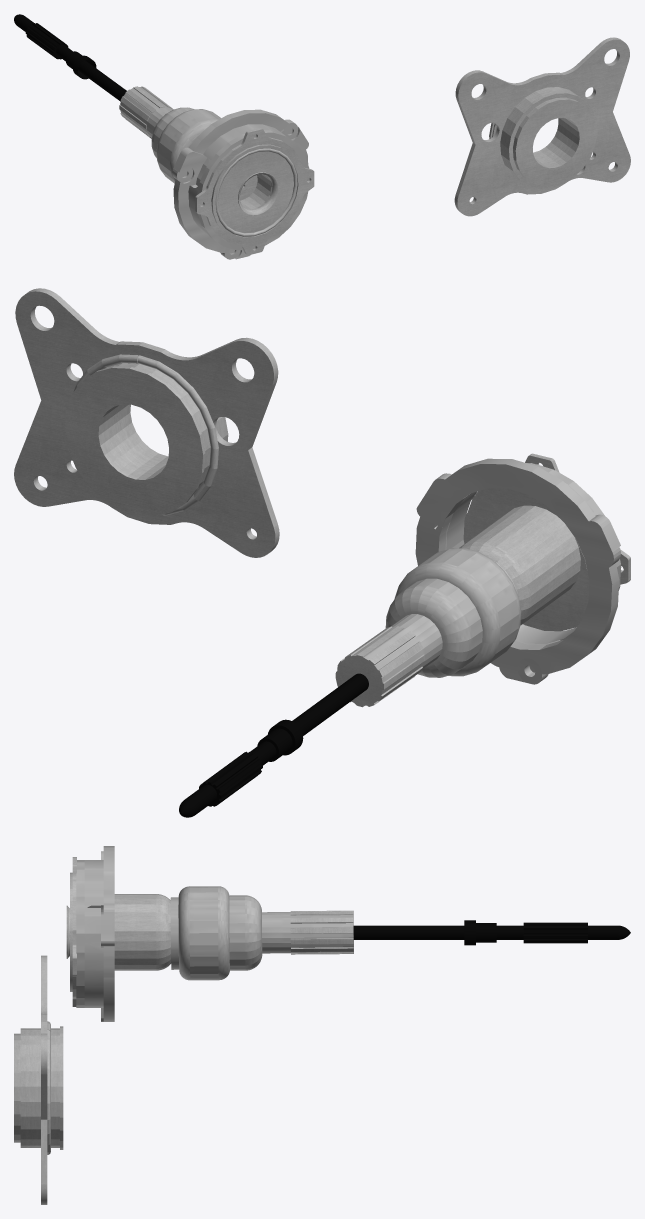
3 renders of one model, top to bottom at view 1: azimuth 30°, elevation 25°; view 2: azimuth 150°, elevation 25°; view 3: azimuth 270°, elevation 25°, orthographic. The views are drawn at different scales.
Visible parts, largest first — view 1: 1.008, slongsong, 1.001, 1.003; view 2: 1.008, slongsong, 1.003, 1.001; view 3: 1.003, slongsong, 1.008, 1.001.
Part boxes in pixels (bbox=[...]): 1.008: bbox=[454, 37, 630, 216]; slongsong: bbox=[14, 14, 314, 255]; 1.001: bbox=[172, 109, 309, 259]; 1.003: bbox=[119, 86, 220, 183]; 1.008: bbox=[14, 288, 279, 557]; slongsong: bbox=[179, 453, 630, 817]; 1.003: bbox=[335, 548, 521, 707]; 1.001: bbox=[415, 458, 621, 684]; 1.003: bbox=[170, 886, 353, 980]; slongsong: bbox=[66, 857, 630, 1006]; 1.008: bbox=[14, 955, 63, 1204]; 1.001: bbox=[76, 846, 114, 1021].
Size of the model in its own units: 936 by 321 by 1007.
13 materials, 8 textured.
